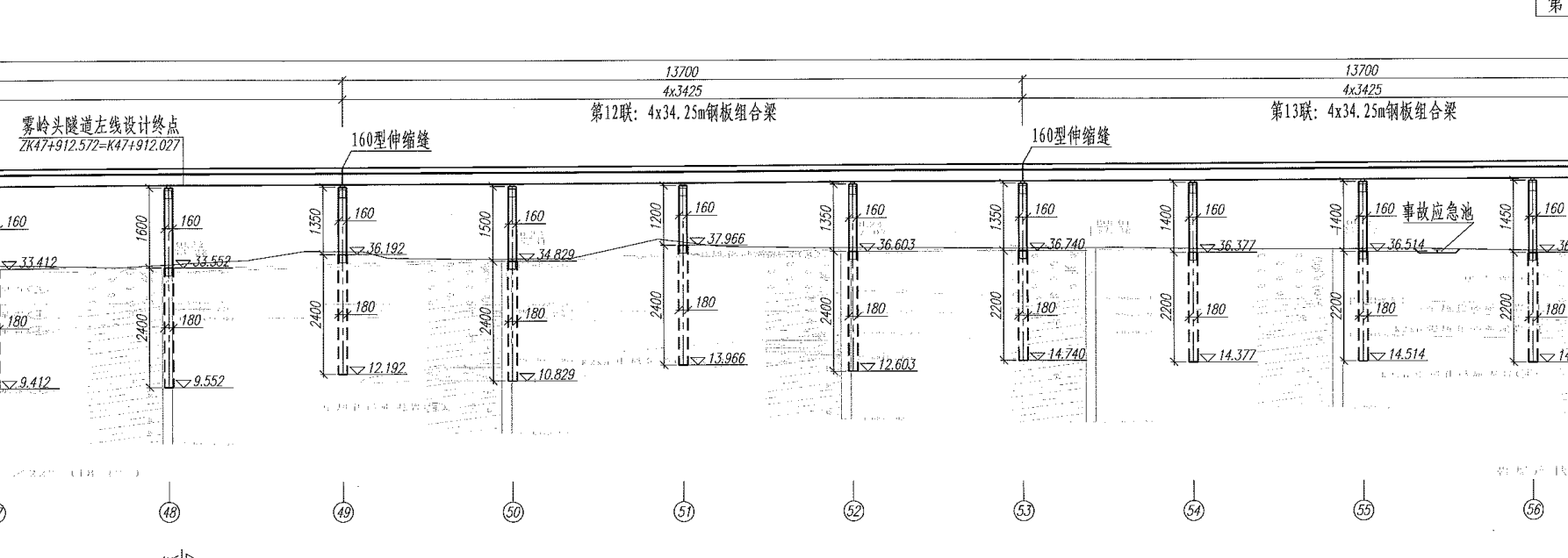B: (334, 59, 1036, 116), (1012, 63, 1568, 87)
C: (995, 170, 1122, 527), (823, 172, 938, 528), (1334, 171, 1447, 528), (313, 180, 426, 527), (485, 182, 597, 527), (140, 185, 250, 527), (660, 176, 765, 527), (1171, 171, 1273, 530), (1506, 168, 1567, 527)
